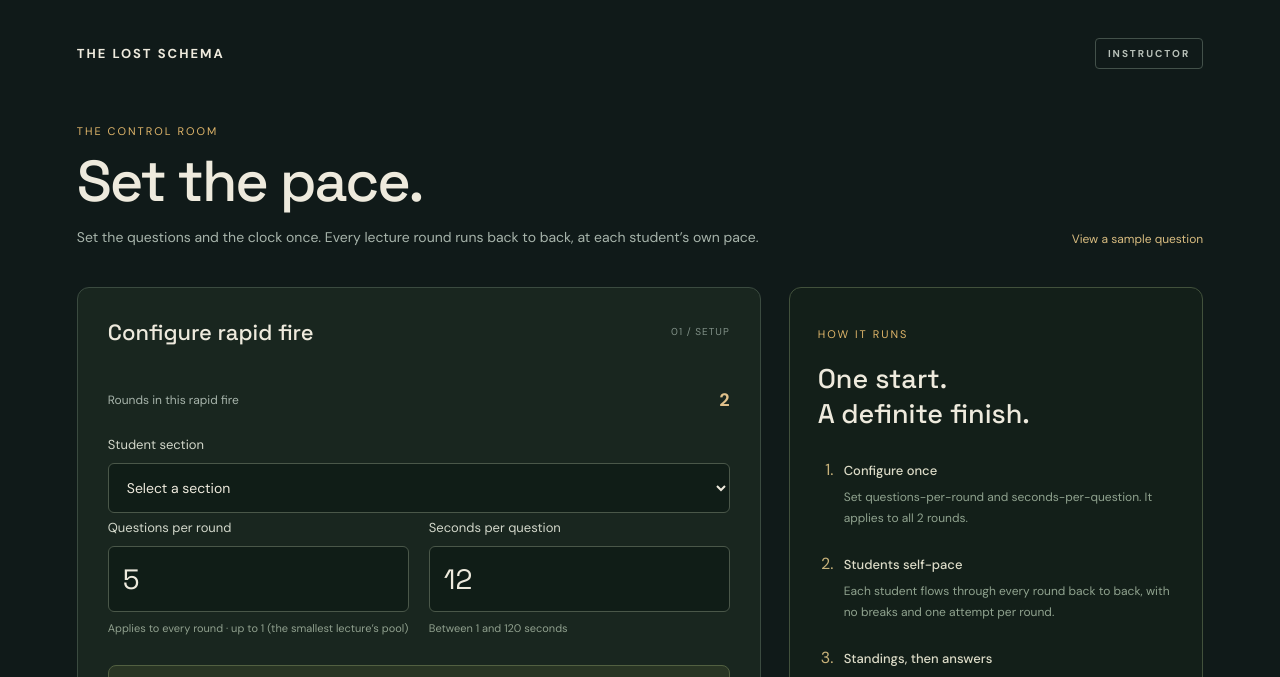
Scenario: Instructor question review › explains a failed swap in plain words
The image size is (1280, 677).
Select "A" in the dropdown labelled "Student section": [419, 488] box [108,463,730,513]
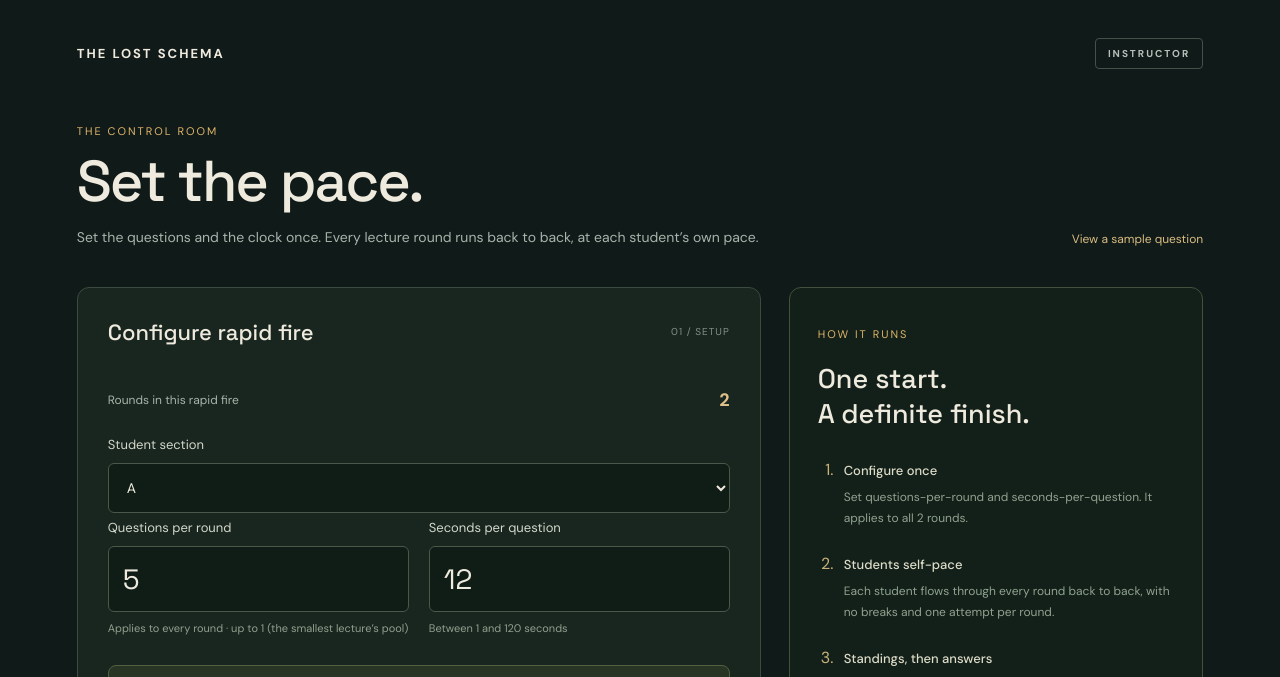
Replace the text in the number field labelled "Questions per round" with "1": [258, 579] box [108,546,409,612]
(page scrolled)
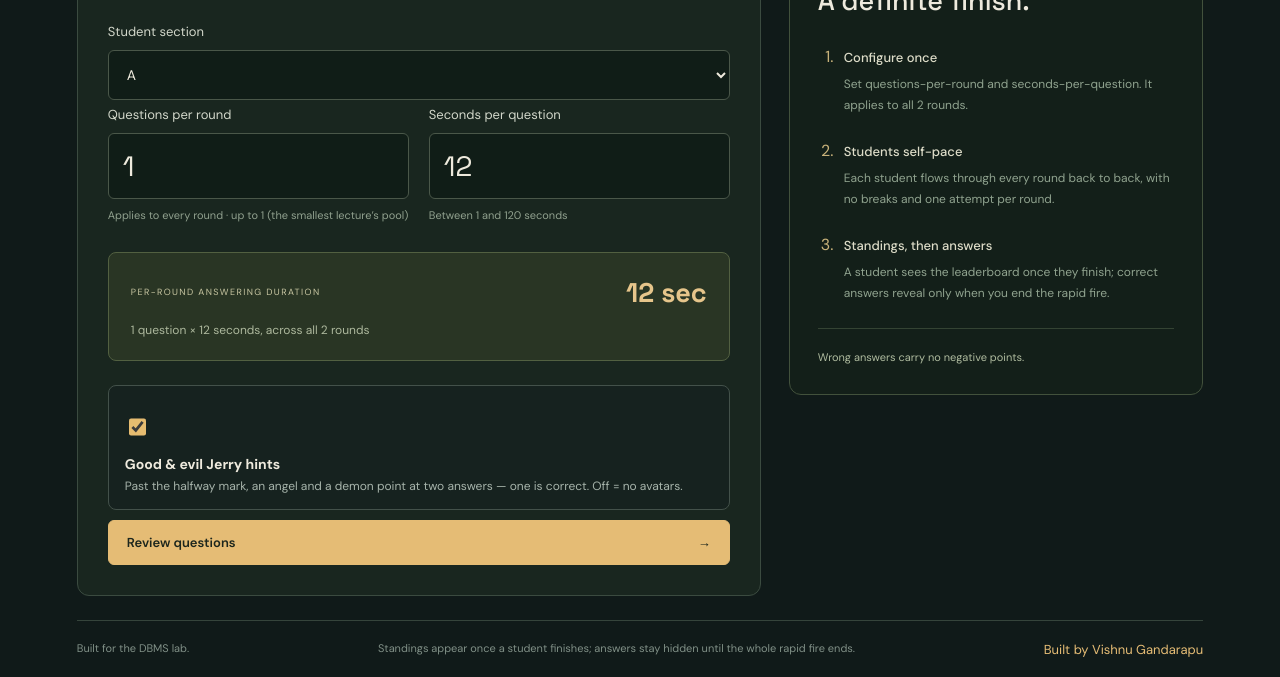
Click the button "Review questions →": [181, 542] box [108,520,730,565]
(page scrolled)
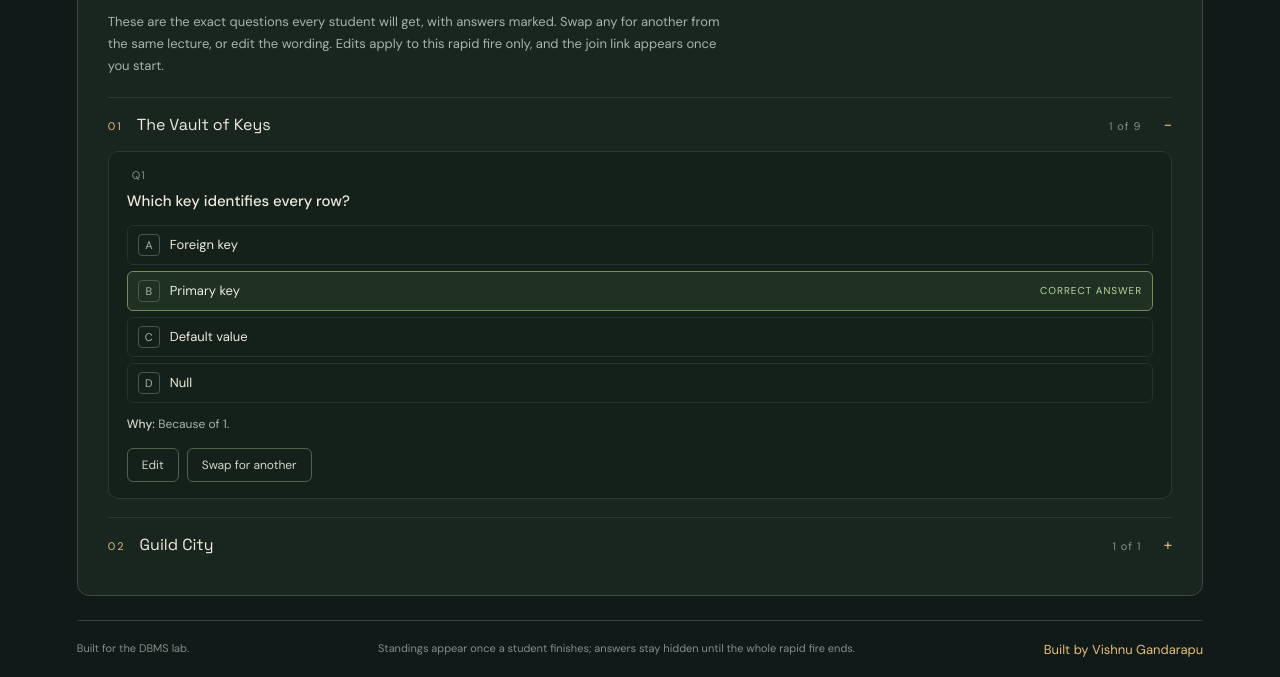
Click the button "Swap for another": [249, 465] box [187,448,312,482]
(page scrolled)
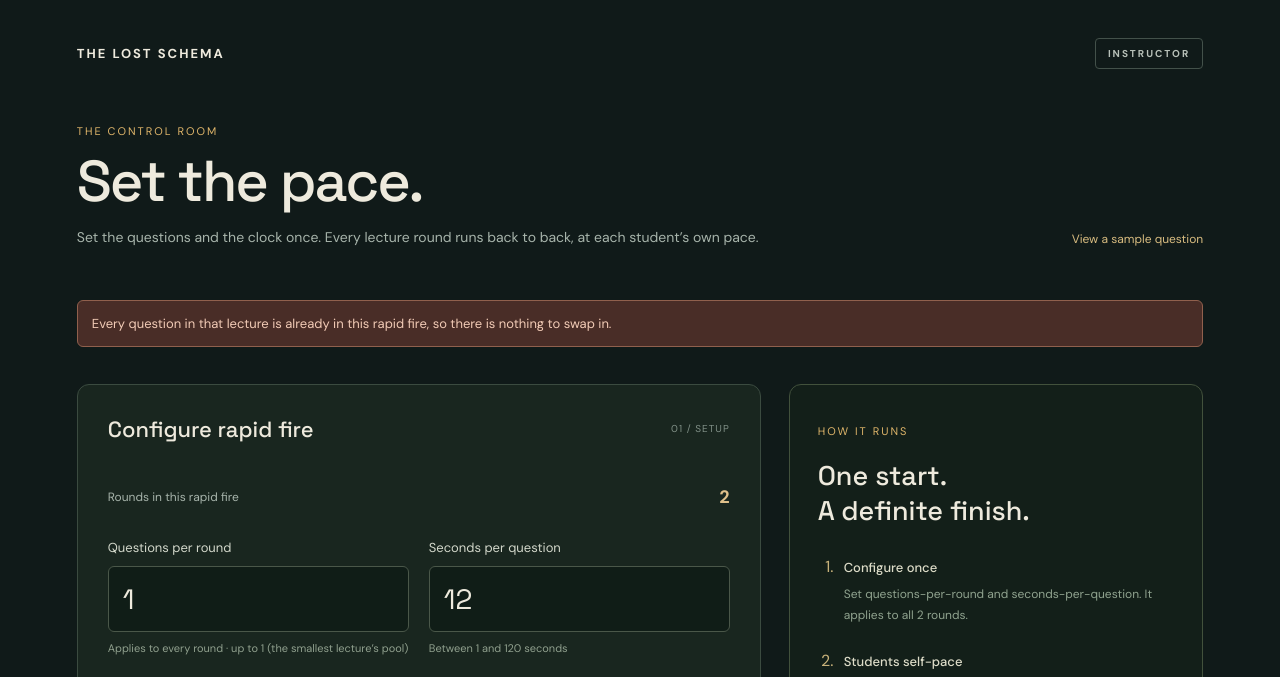
Expected: the message shows "nothing to swap in", [92,315,612,332]
